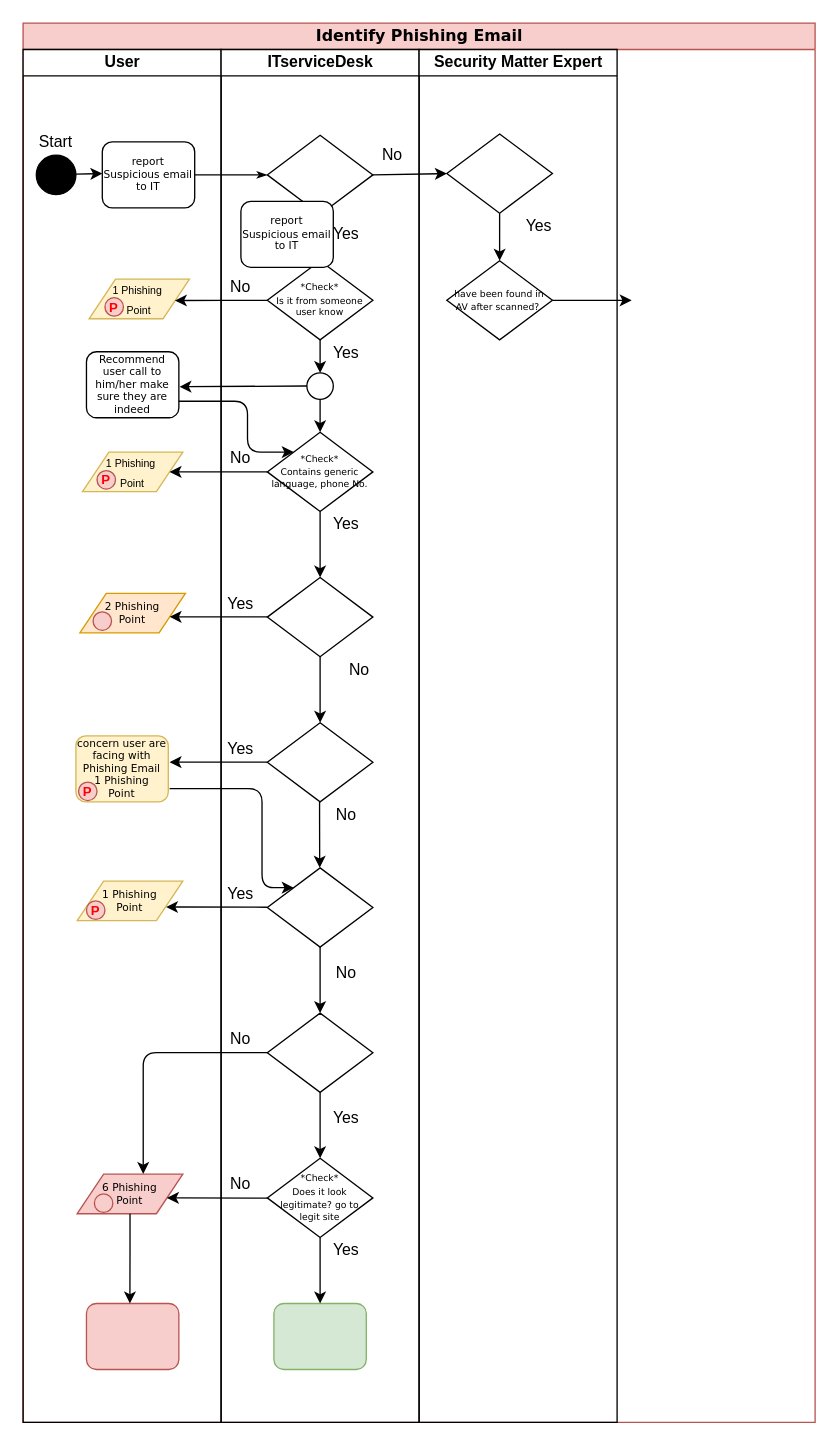
Image size: 838x1445. Some labels were removed from this diagram. The shapes that lost their labels are listed below. From the top down, each one's centre as x and y in pixels, then its label:
At (319,174): "Consider this case is the email suspicious?".
At (499,173): "Does it contain files?".
At (102,620): "2P".
At (319,616): "*Check* Ask user to send password, credit card No, personal info".
At (319,761): "*Check* Has user been use credentials to access or click that link?".
At (319,907): "*Check* Identify is the msg contain a Link or URLs?".
At (319,1052): "*Check* Does Hyperlink or URLs getting to true destination?".
At (103,1202): "6P".
At (132,1336): "Users are on phishing/Scam cause This is suspicious email".
At (319,1336): "Users are safe from Phishing/Scam 0 Phishing Point".
